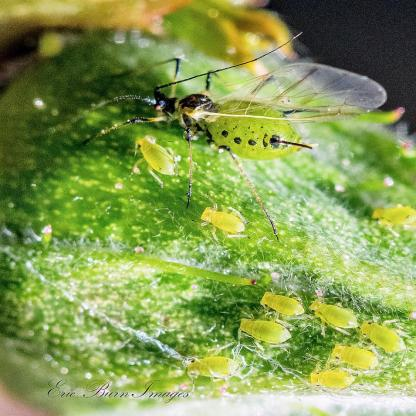aphid: (103, 47, 384, 168)
